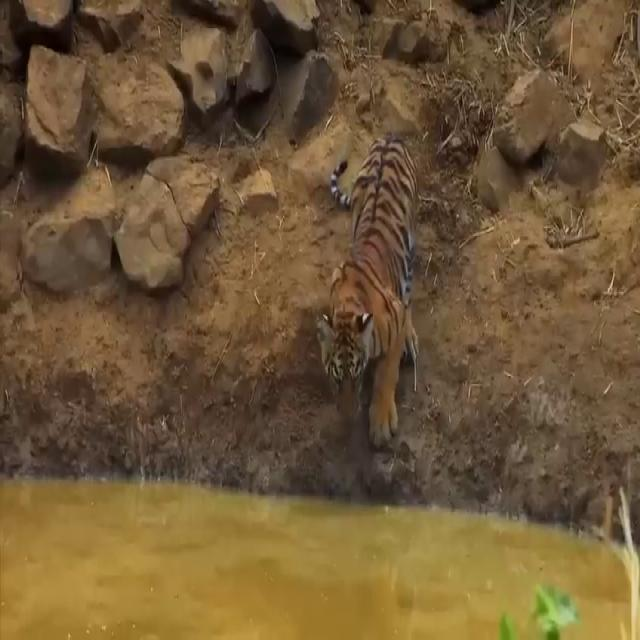tiger: (316, 136, 420, 450)
